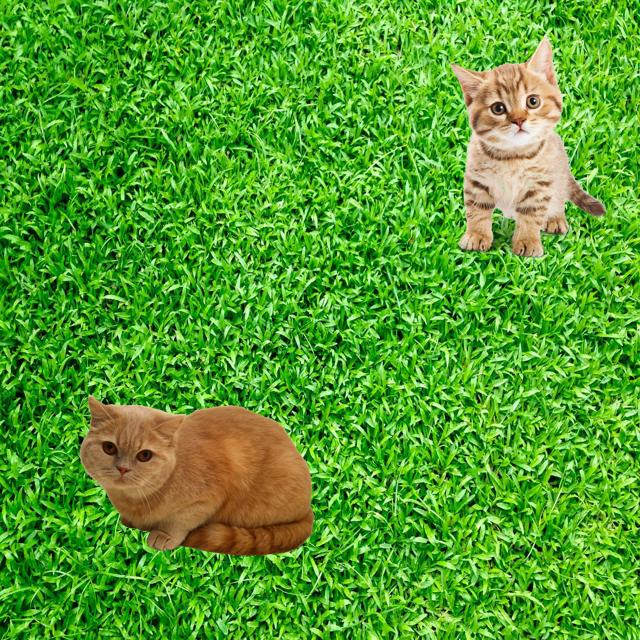cat: (431, 37, 627, 257), (75, 397, 313, 559)
